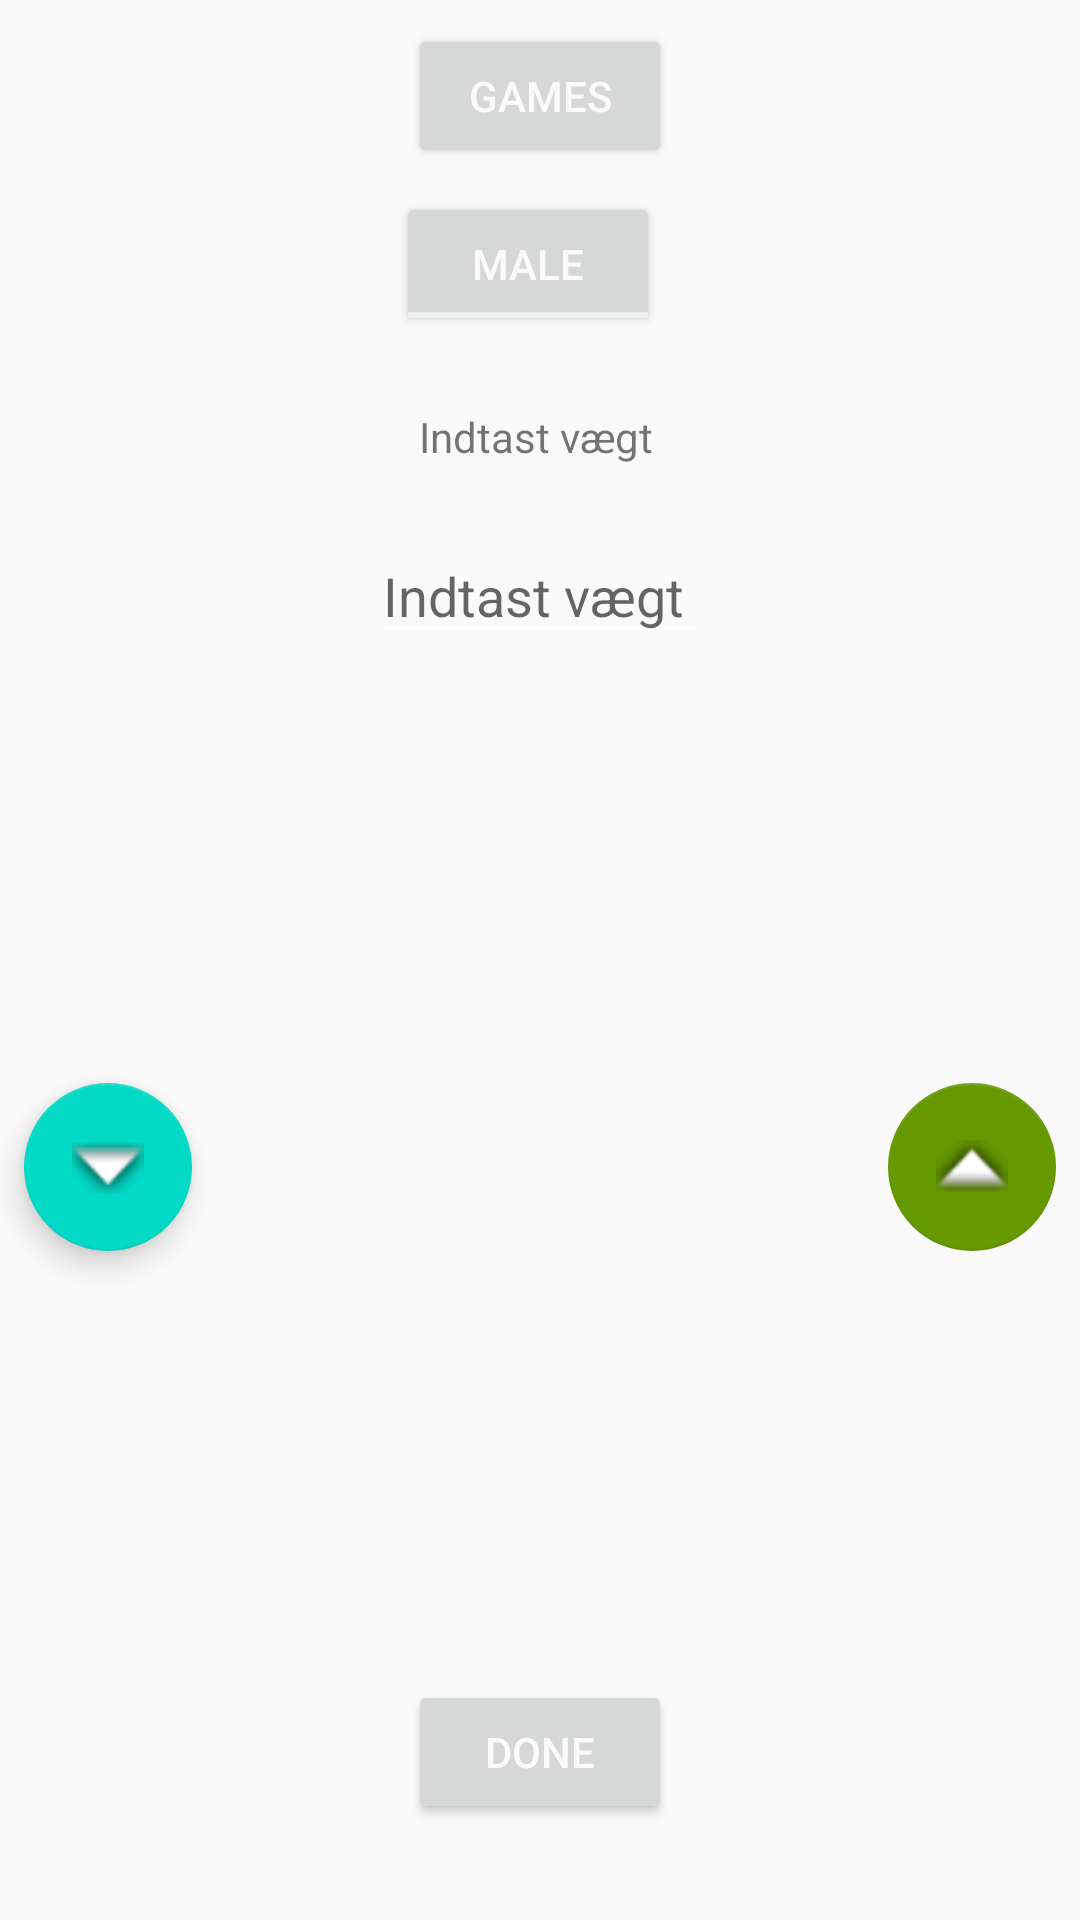

Screen size 1080 x 1920. Icon name, then its box in pixels as (x1, y1, x2, y2):
arrow down float: (24, 1083, 192, 1251)
arrow up float: (888, 1083, 1056, 1251)
